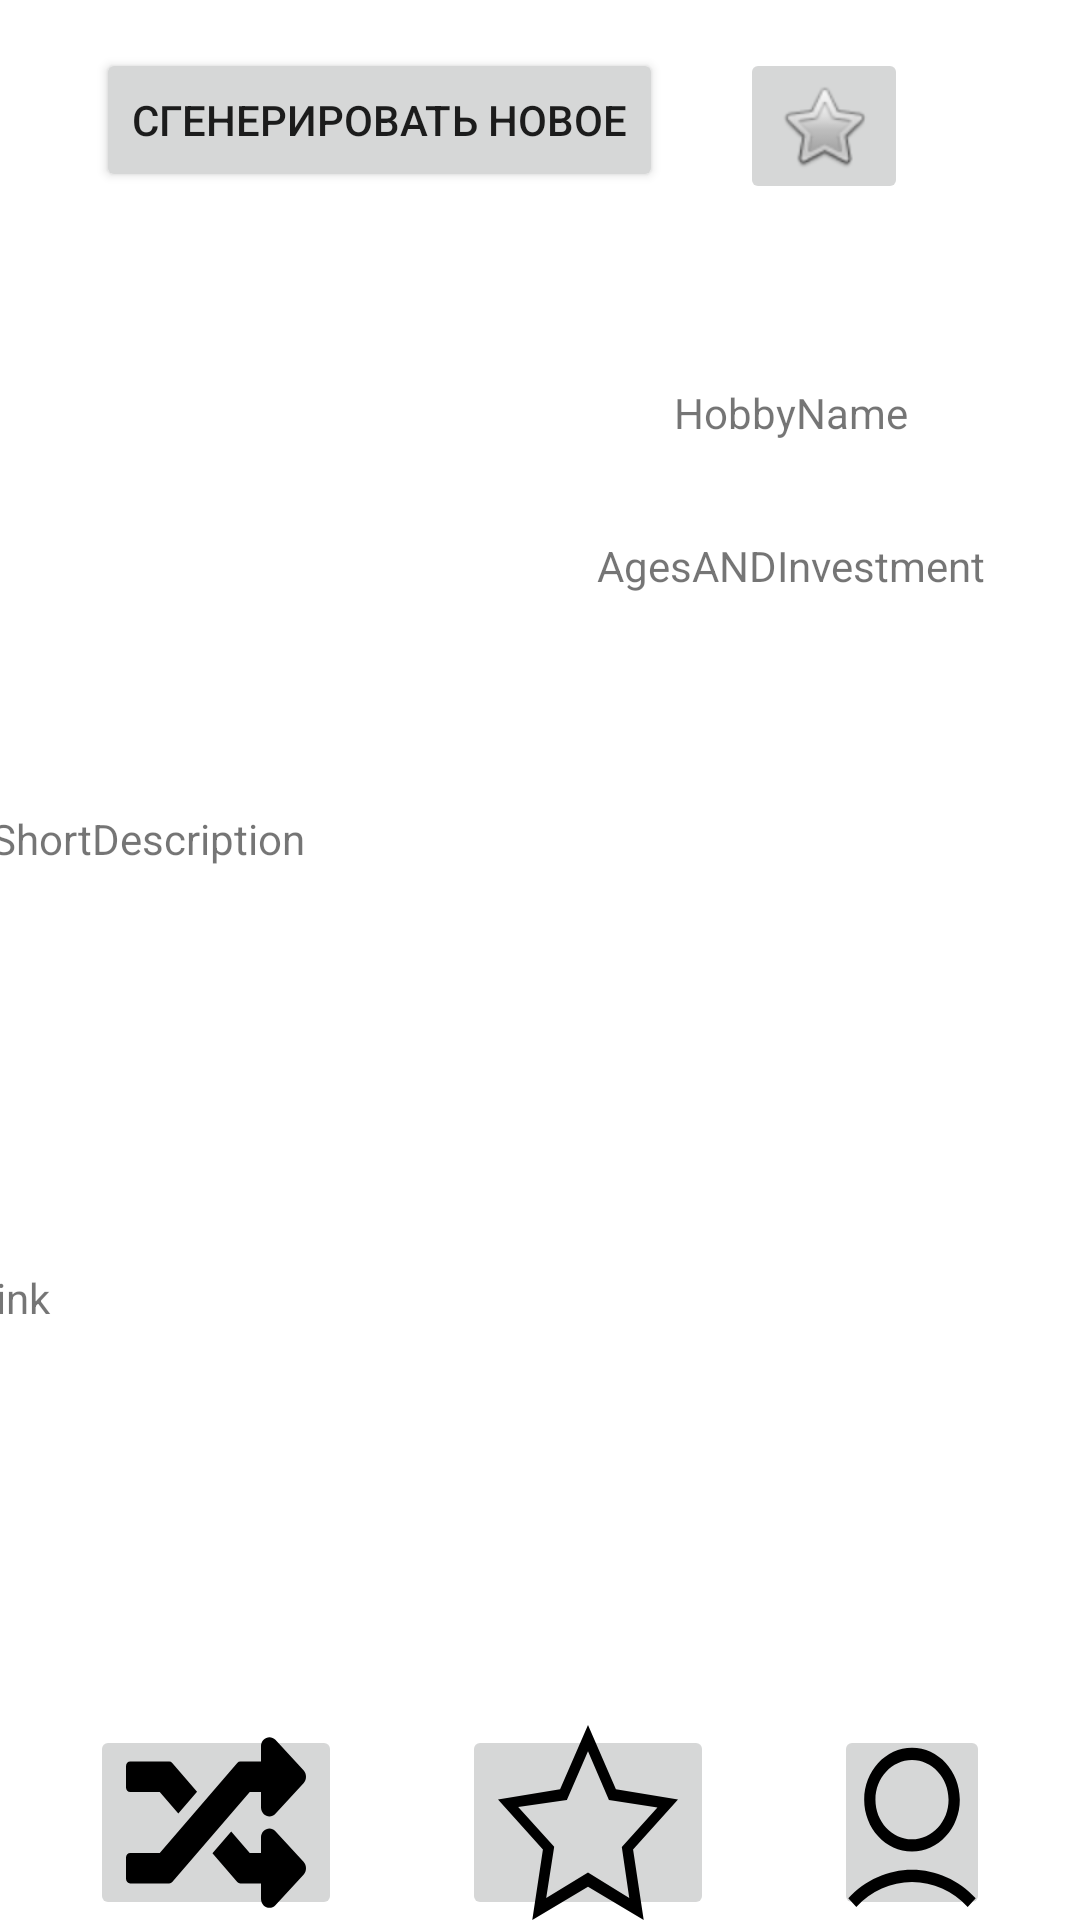

Screen size 1080w x 1920h. Icon name, then its center in pixels as (x,y):
favourites star interface symbol: (588,1822)
random: (216,1822)
star off: (824,126)
